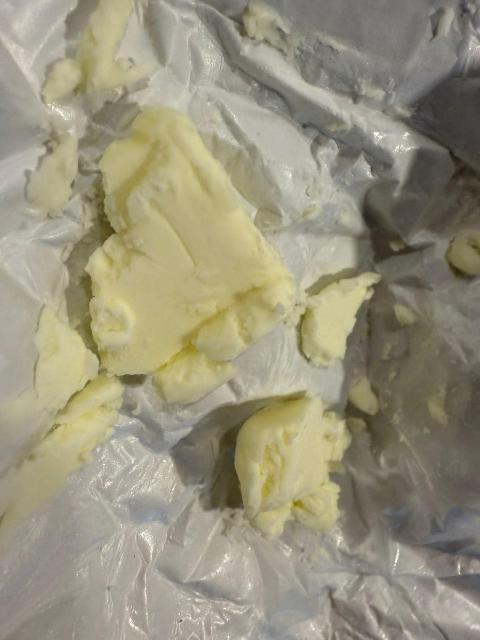Organik: (92, 108, 292, 400), (233, 389, 351, 536), (12, 304, 117, 460), (35, 4, 153, 104), (300, 277, 383, 356), (23, 123, 85, 219), (441, 218, 480, 280), (233, 7, 288, 45), (349, 379, 381, 419)
